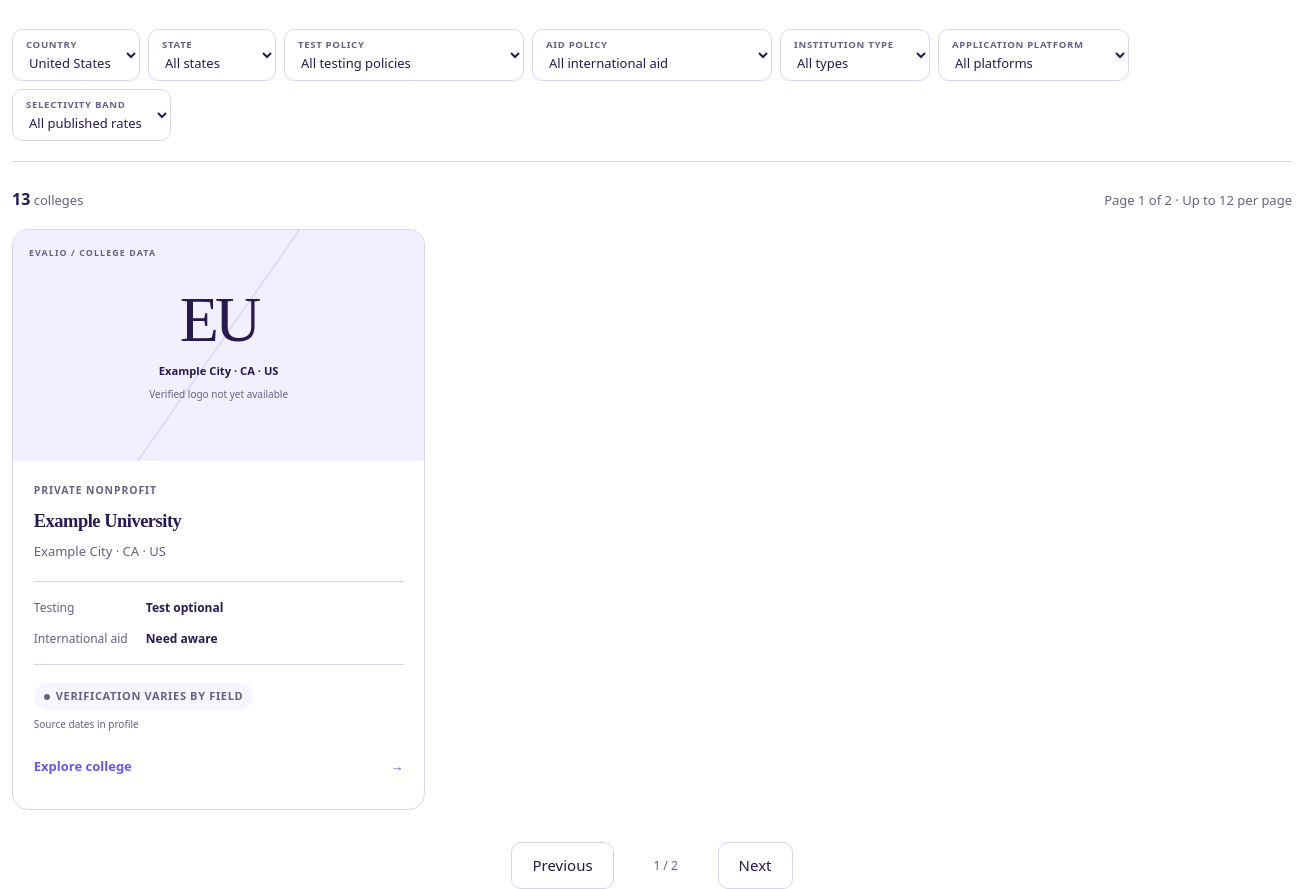
Test: CollegeExplorer › requests the next page and renders no-result state
(page scrolled)
Expected: the link "Example University" is shown, [34,511,181,531]
Click the button "Next".
click(755, 866)  # box [718,842,792,888]
(page scrolled)
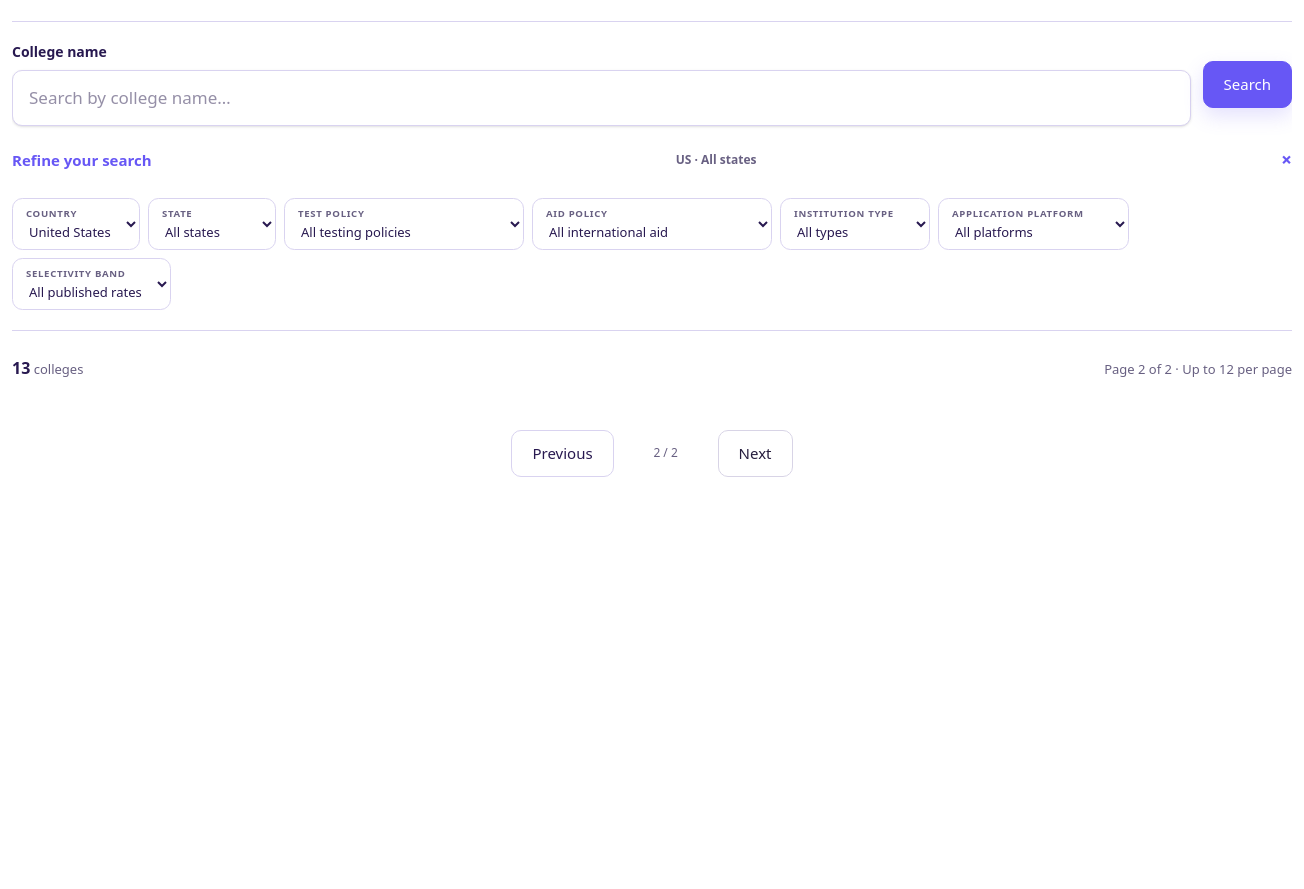
Type "No such school" into the field labelled "College name".
click(601, 98); type("No such school")  # box [12,70,1190,126]
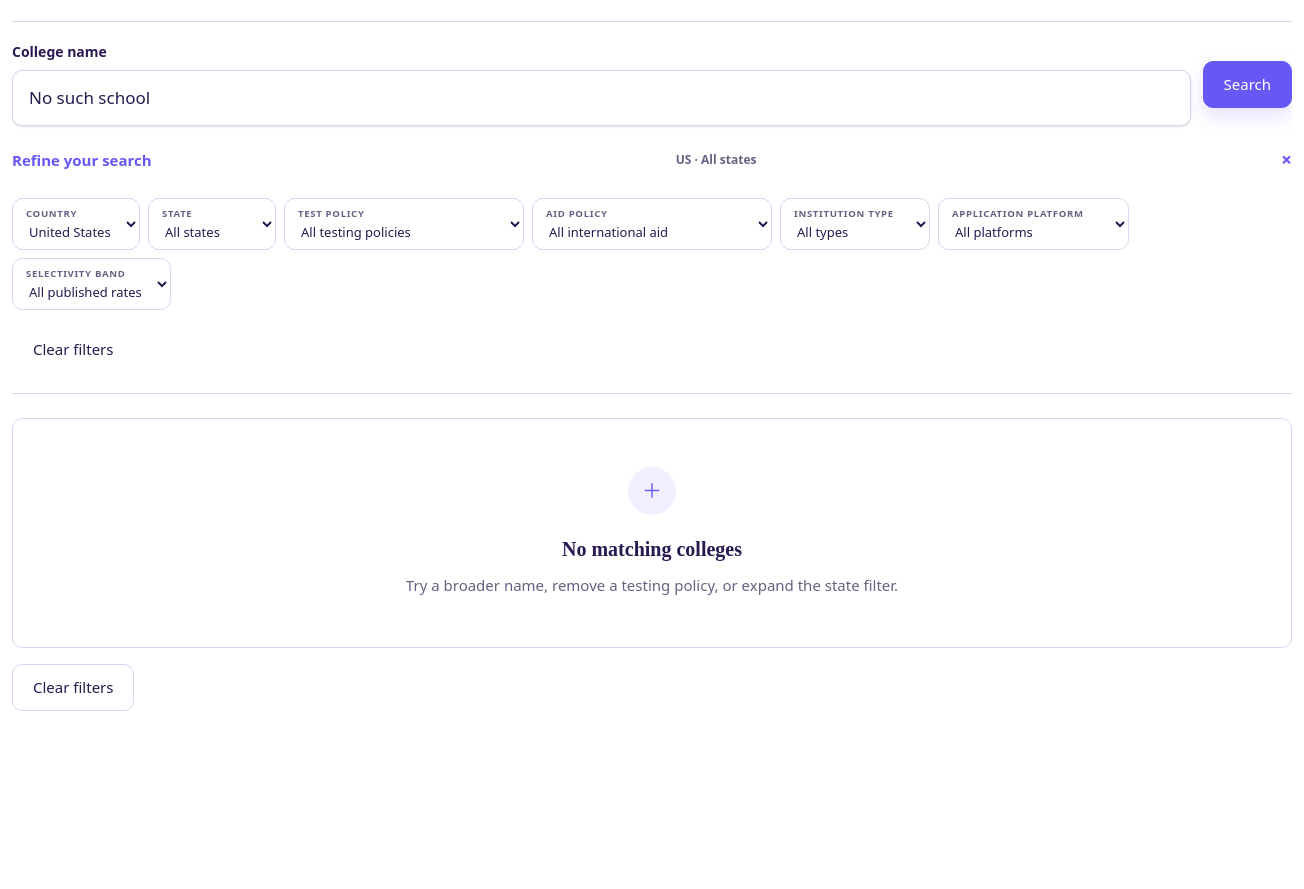
Now the heading "No matching colleges" is shown, box [562,535,742,563]
